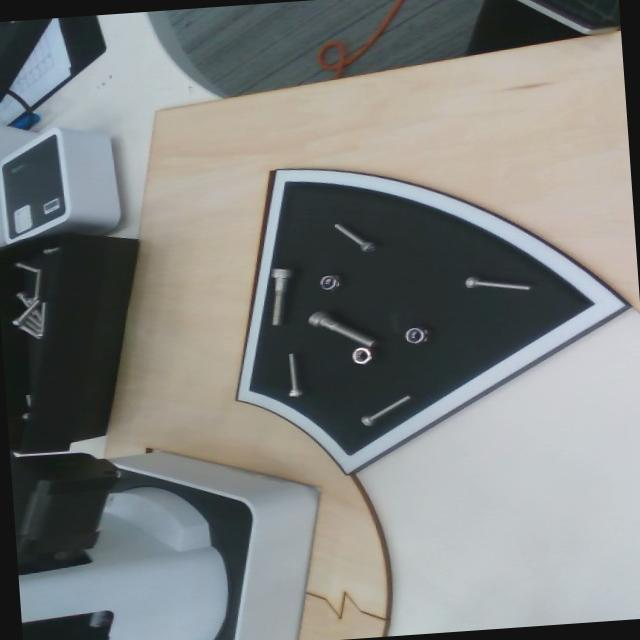big: (305, 308, 378, 348), (270, 267, 290, 327)
circle: (399, 322, 433, 347), (314, 272, 344, 294), (346, 345, 376, 365)
small: (359, 393, 411, 427), (330, 221, 376, 254), (463, 274, 530, 292), (285, 350, 302, 399)
